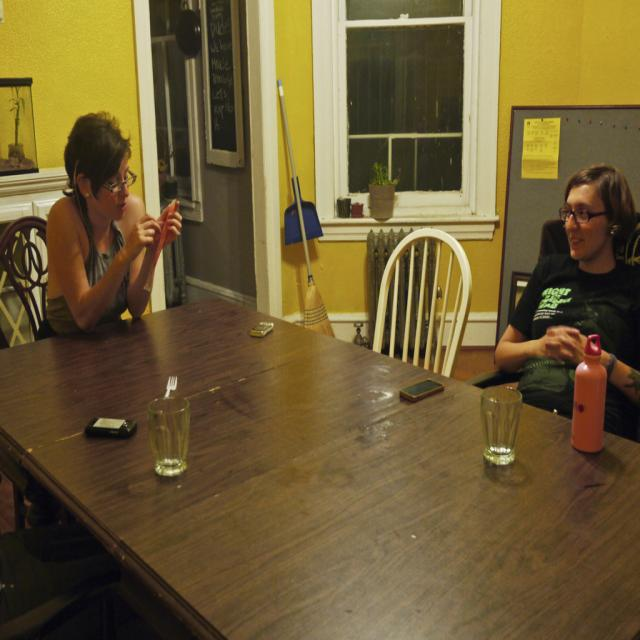chair: (370, 230, 472, 378), (0, 217, 49, 345)
desk: (49, 346, 633, 612)
person: (493, 162, 640, 434), (36, 111, 182, 338)
